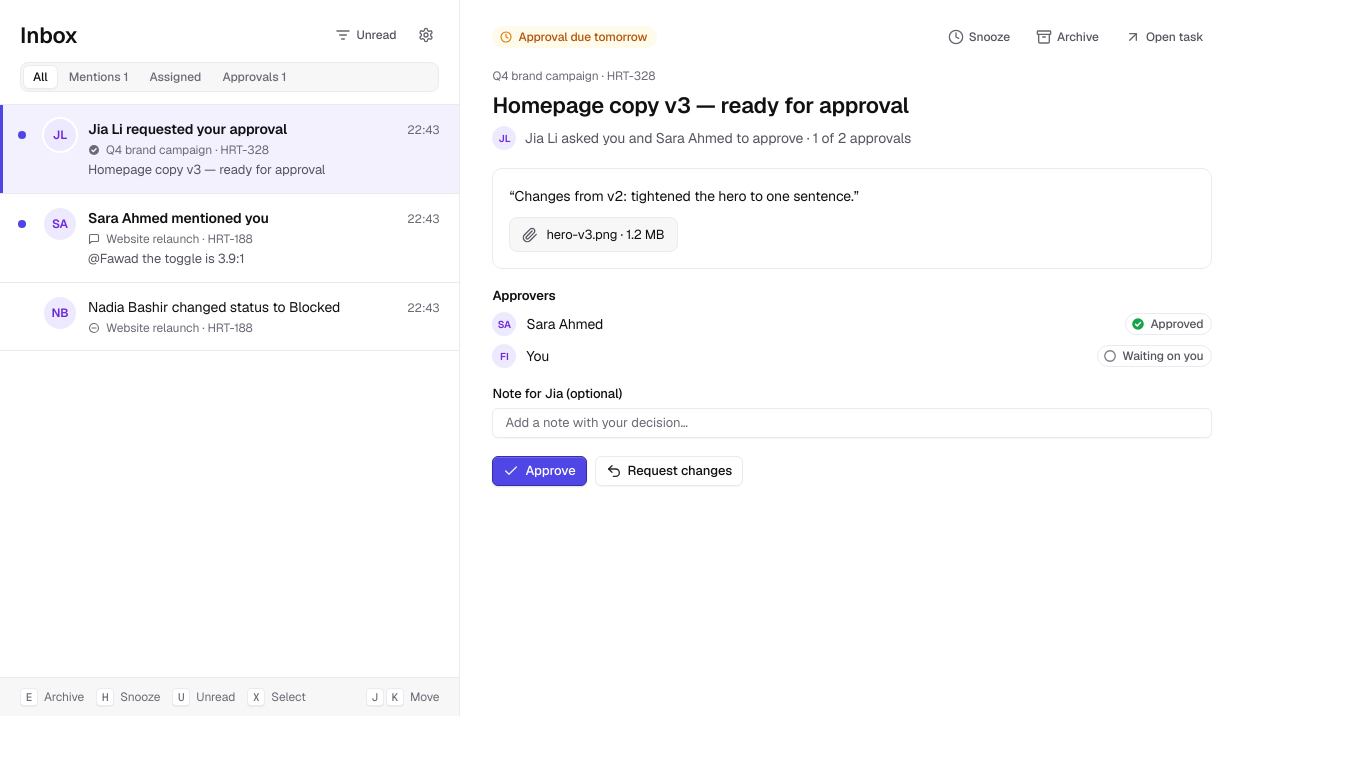
Scenario: InboxPage › J/K move the selection; E archives with Undo
The image size is (1366, 768).
Check: the text "Jia Li requested your approval" is shown, box [87,119,287,138]
Press j
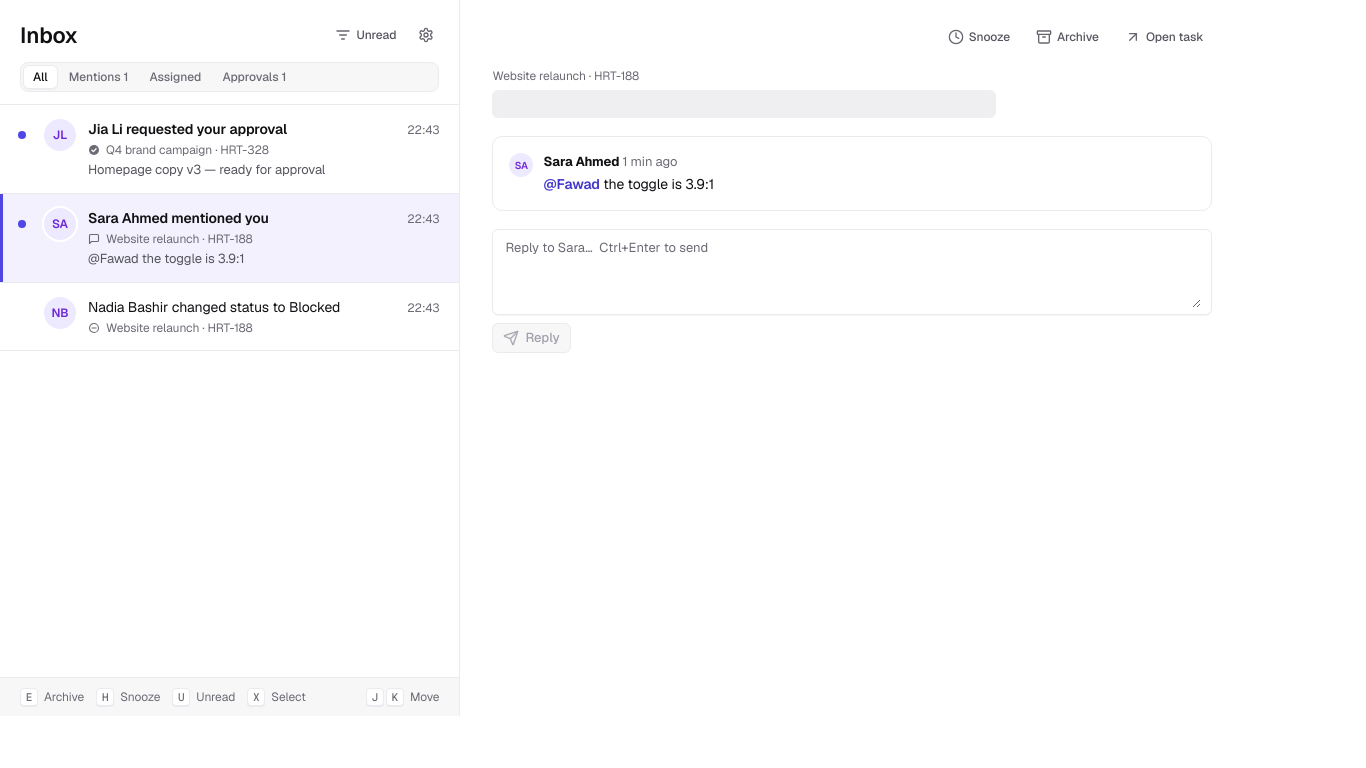
Press k
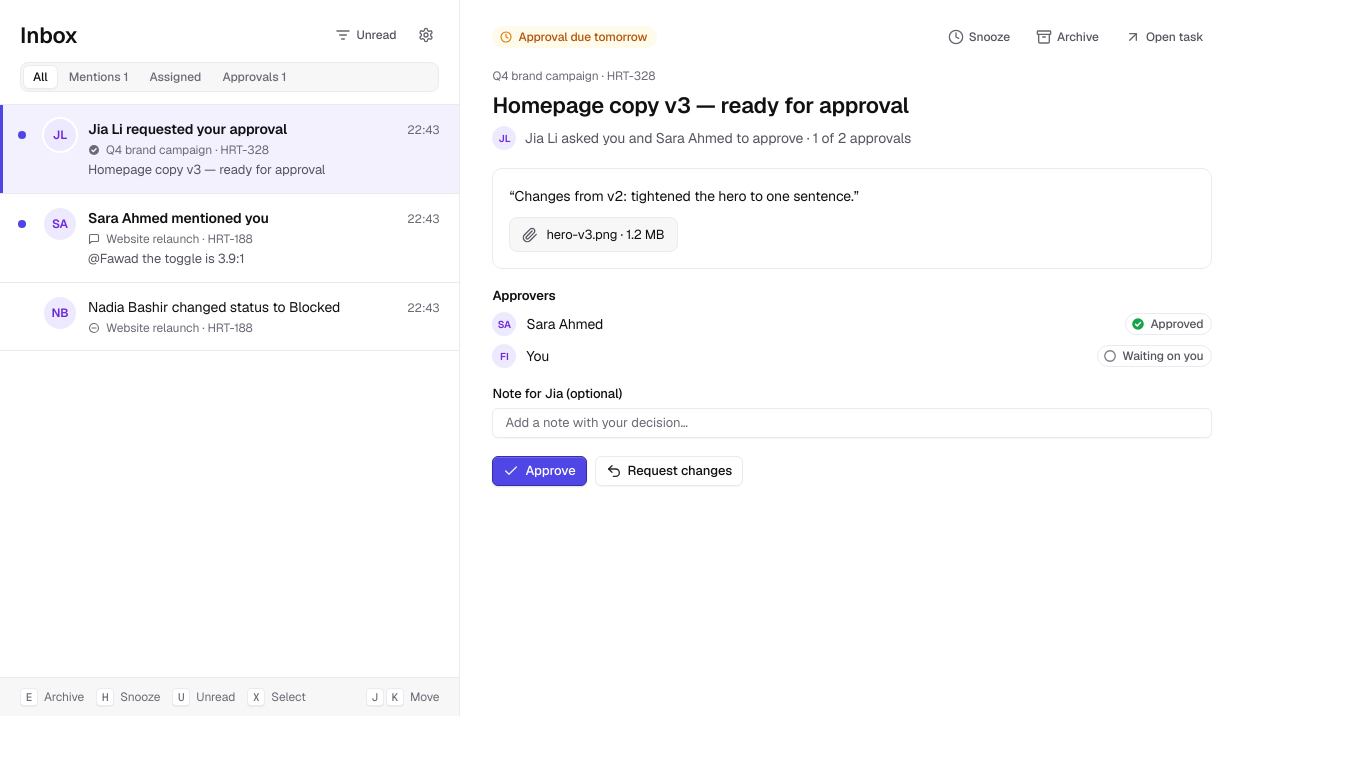
Press j
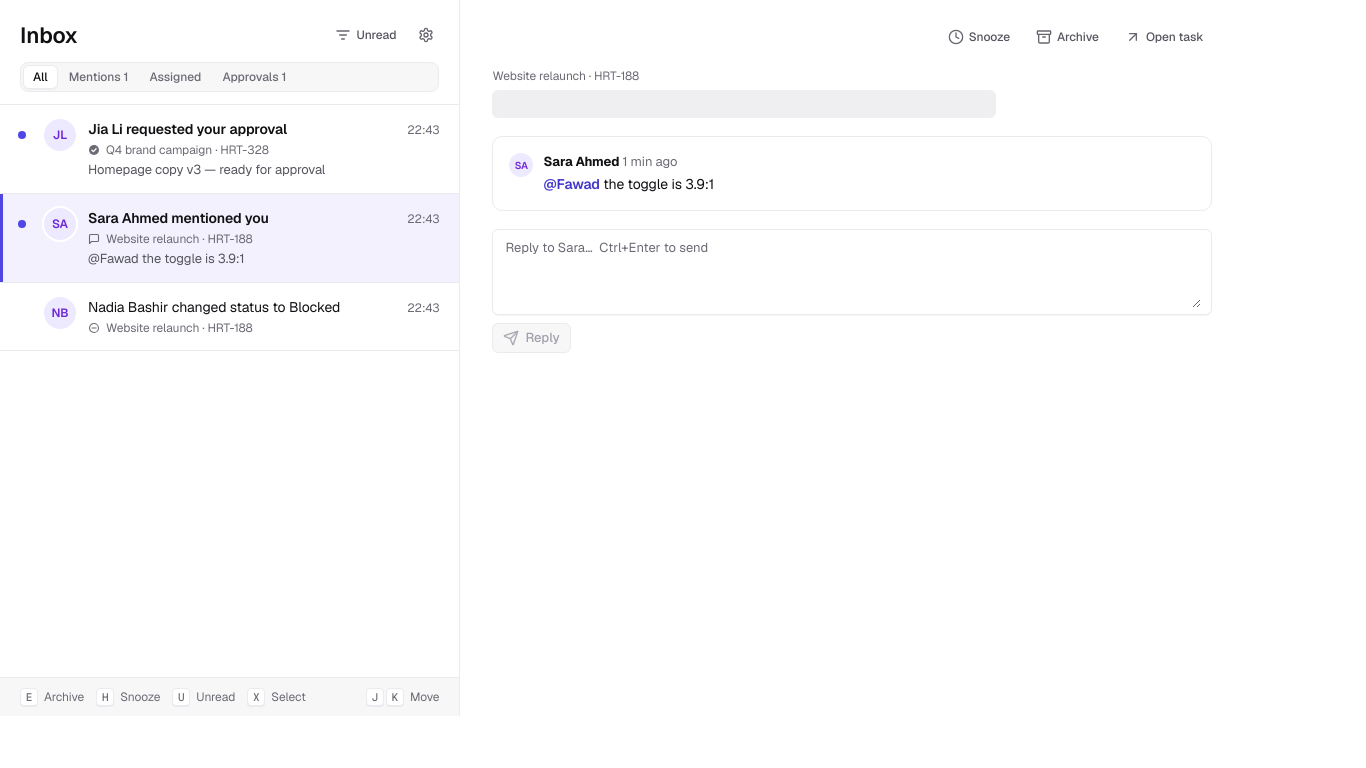
Press e
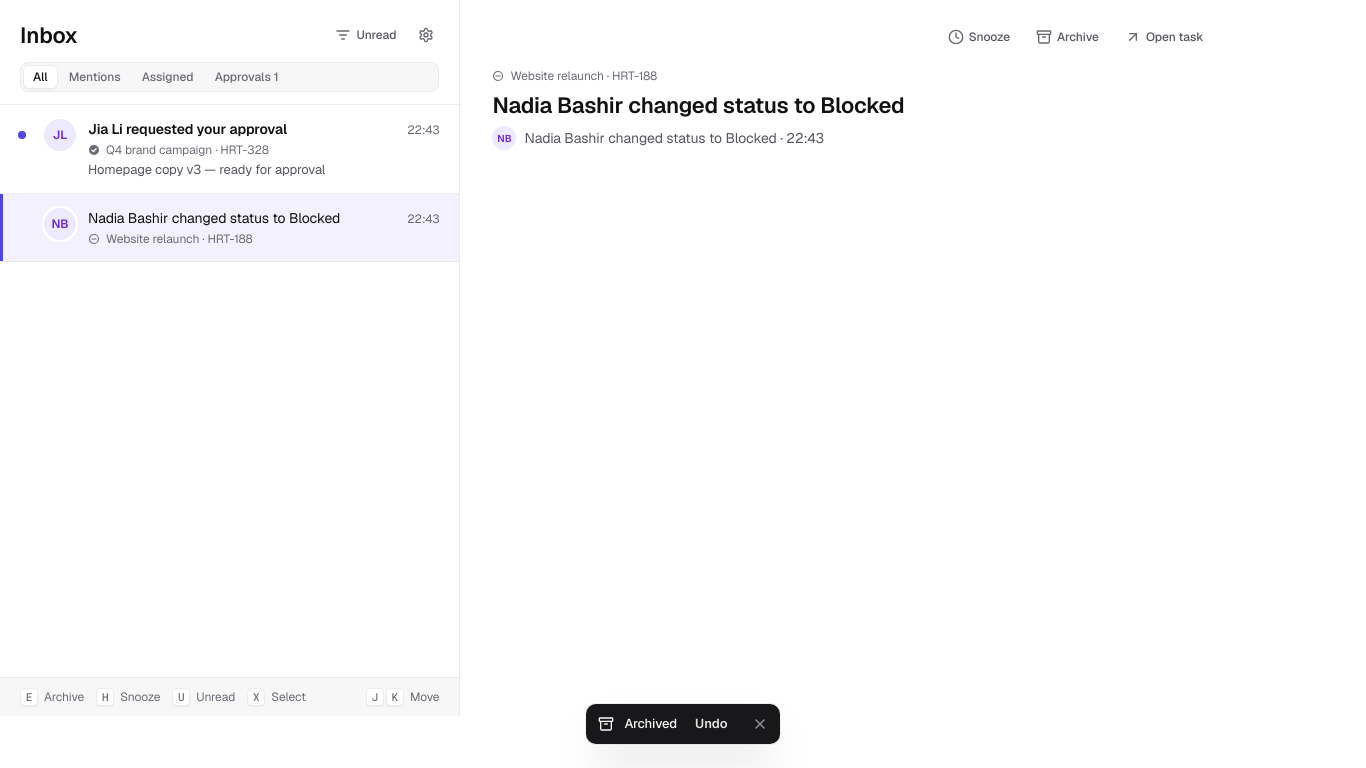
Check: the option "Sara Ahmed mentioned you" is gone
Click the button "Undo" at point(711, 724), box [687,712,736,736]
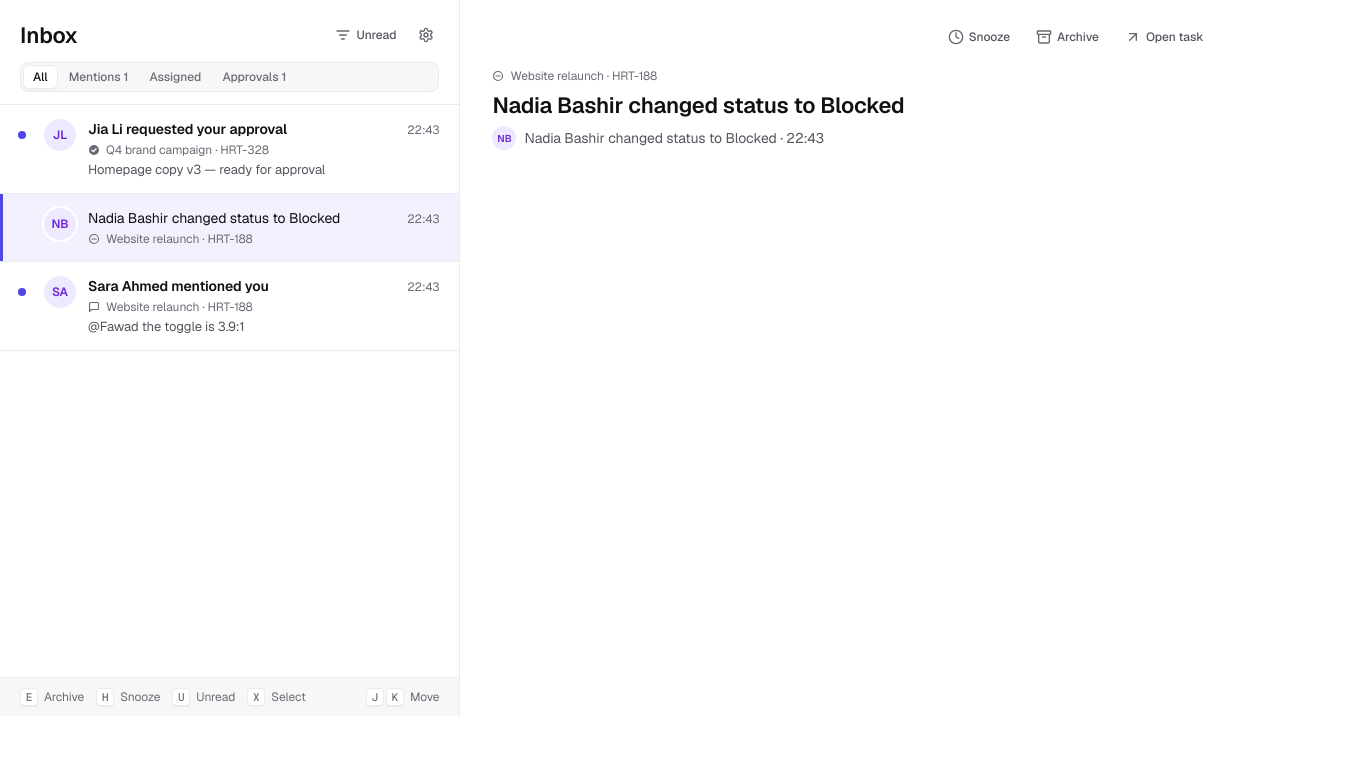
Check: the option "Sara Ahmed mentioned you" is shown, box [0,262,460,351]
